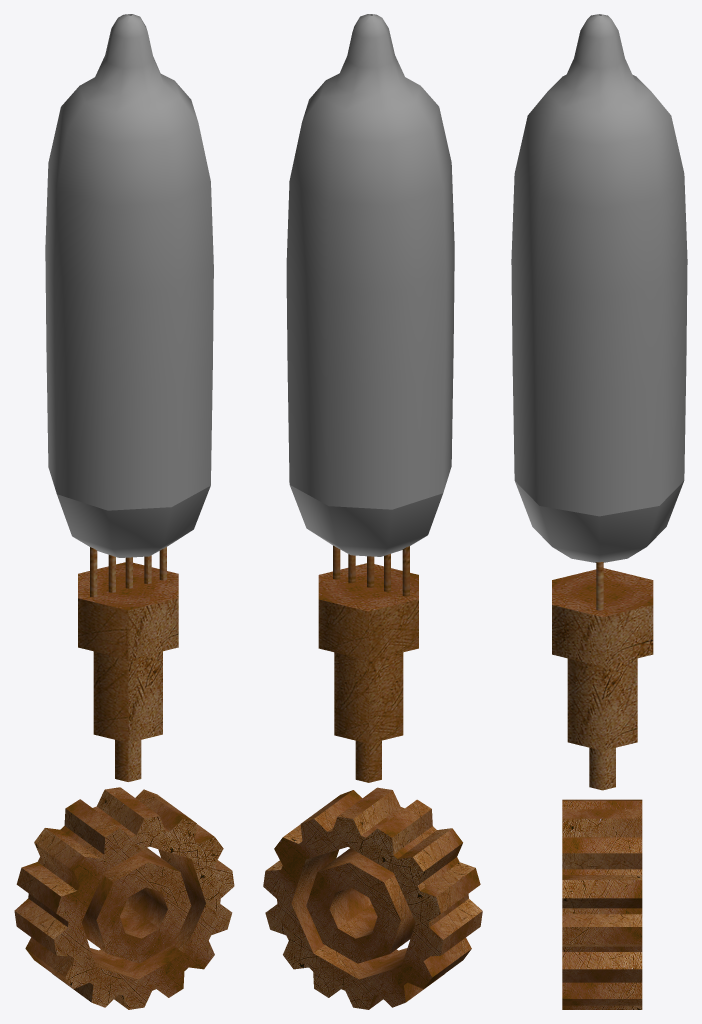
Rendered from Exclamation.FBX.
3 renders of one model, left to right at view 1: azimuth 30°, elevation 25°; view 2: azimuth 150°, elevation 25°; view 3: azimuth 270°, elevation 25°, orthographic.
Parts seen in each view (by area): view 1: Lamp011, Cogwheel_406, Tube_667, Tube_664, Tube_653; view 2: Lamp011, Cogwheel_406, Tube_667, Tube_664, Tube_653; view 3: Lamp011, Cogwheel_406, Tube_667, Tube_664, Tube_653.
Boxes of the visible parts, x1,y1,x2,y2 form: Lamp011: (45,14,213,557); Cogwheel_406: (14,787,234,1009); Tube_667: (78,562,178,659); Tube_664: (93,651,162,742); Tube_653: (115,740,141,781); Lamp011: (286,14,454,556); Cogwheel_406: (263,787,482,1009); Tube_667: (318,563,418,660); Tube_664: (334,652,403,743); Tube_653: (355,740,381,782); Lamp011: (511,14,687,562); Cogwheel_406: (562,799,642,1009); Tube_667: (552,568,653,666); Tube_664: (567,658,637,750); Tube_653: (589,747,615,790).
Bounding box in the file's own units: 19.1 × 98.98 × 16.01.
3 materials, 1 textured.
